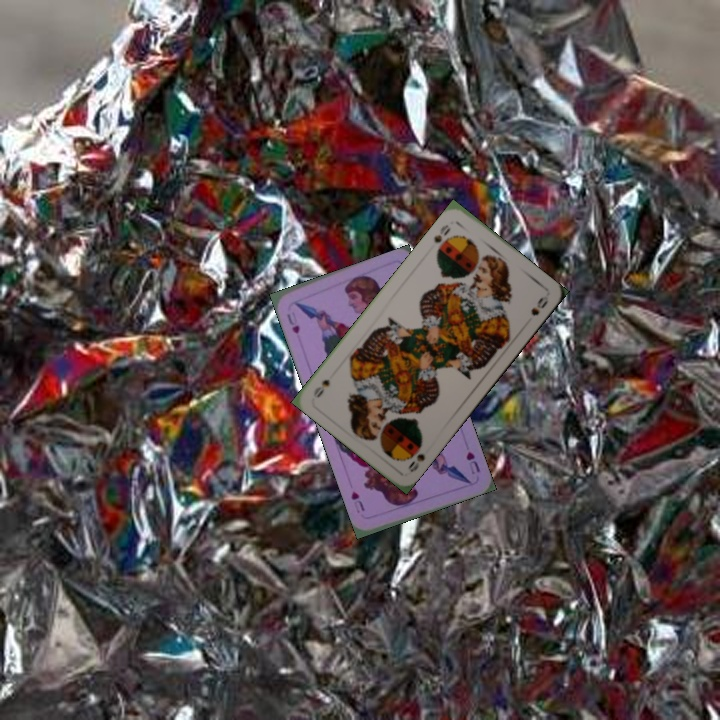HU: (462, 447, 483, 477), (283, 308, 302, 337)
SO: (404, 437, 427, 475), (429, 220, 453, 245)
